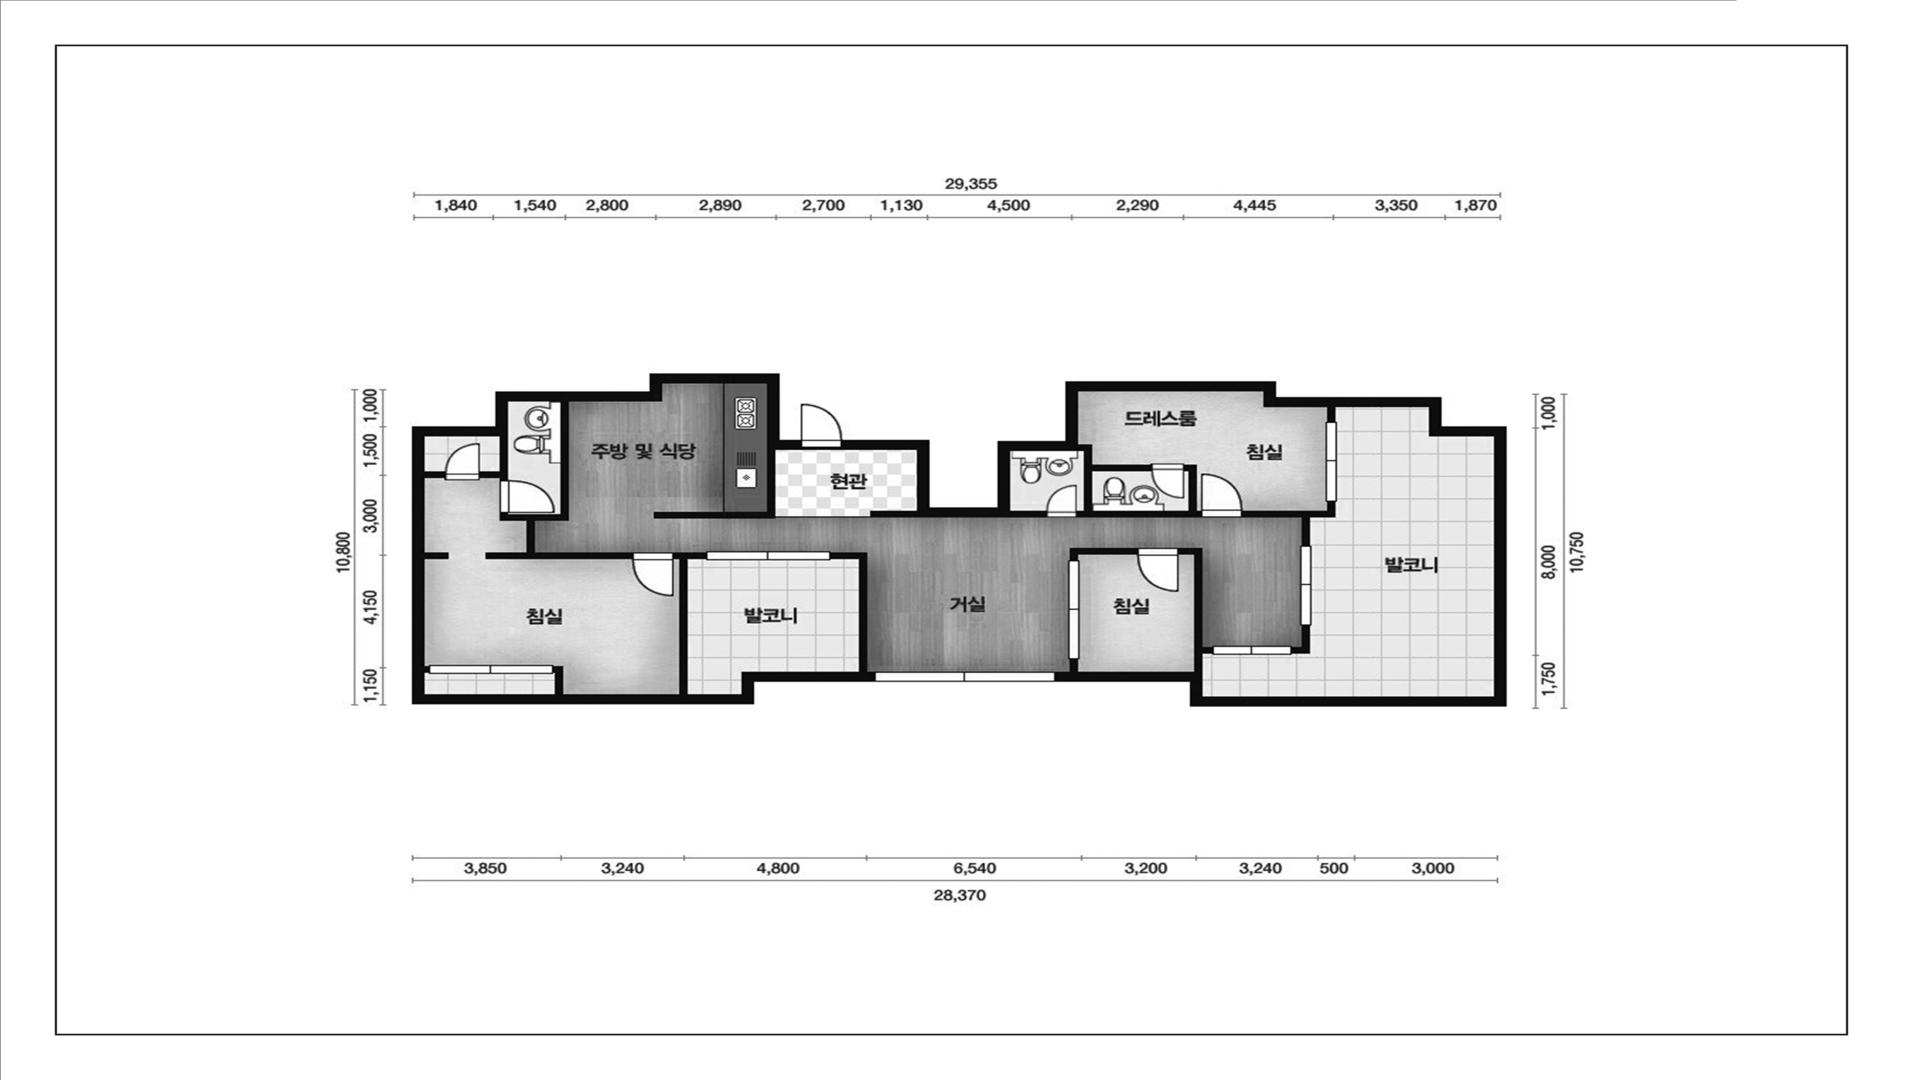door: (802, 404, 843, 450), (633, 552, 674, 595), (500, 480, 555, 512), (1203, 475, 1244, 517), (1138, 548, 1178, 591), (445, 443, 479, 480), (1152, 463, 1184, 498), (1047, 486, 1076, 517)
wall: (412, 373, 1507, 707), (485, 402, 633, 559), (1076, 444, 1203, 517), (654, 449, 776, 519), (672, 552, 706, 694), (830, 552, 868, 671), (1178, 547, 1213, 672), (1243, 502, 1335, 546), (479, 436, 509, 480), (1069, 548, 1138, 561), (1292, 625, 1310, 654), (870, 511, 917, 517), (554, 666, 564, 694), (1011, 511, 1047, 517), (425, 552, 449, 560), (425, 471, 445, 478), (1327, 407, 1336, 422), (1069, 658, 1079, 671), (425, 665, 429, 673)
window: (429, 666, 554, 674), (706, 552, 830, 560), (1069, 561, 1079, 658), (1327, 422, 1336, 501), (1301, 546, 1310, 624), (1213, 647, 1292, 654)
